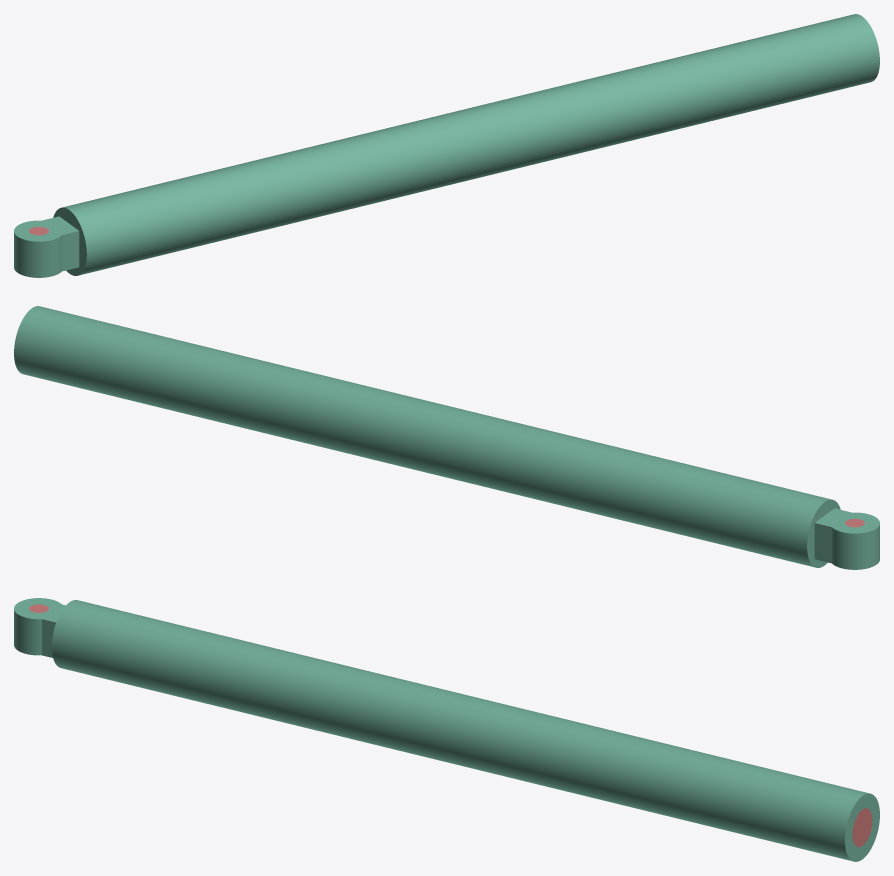
The model's file is step_03.glb.
3 renders of one model, top to bottom at view 1: azimuth 30°, elevation 25°; view 2: azimuth 150°, elevation 25°; view 3: azimuth 330°, elevation 25°, orthographic.
Parts seen in each view (by area): view 1: part__actuator body; view 2: part__actuator body; view 3: part__actuator body, removed__actuator body.
Boxes of the visible parts, x1,y1,x2,y2 form: part__actuator body: (14, 14, 879, 277); part__actuator body: (14, 306, 879, 569); part__actuator body: (14, 598, 879, 861); removed__actuator body: (29, 604, 872, 847).
Size of the model in its own units: 1950 by 140 by 140.
